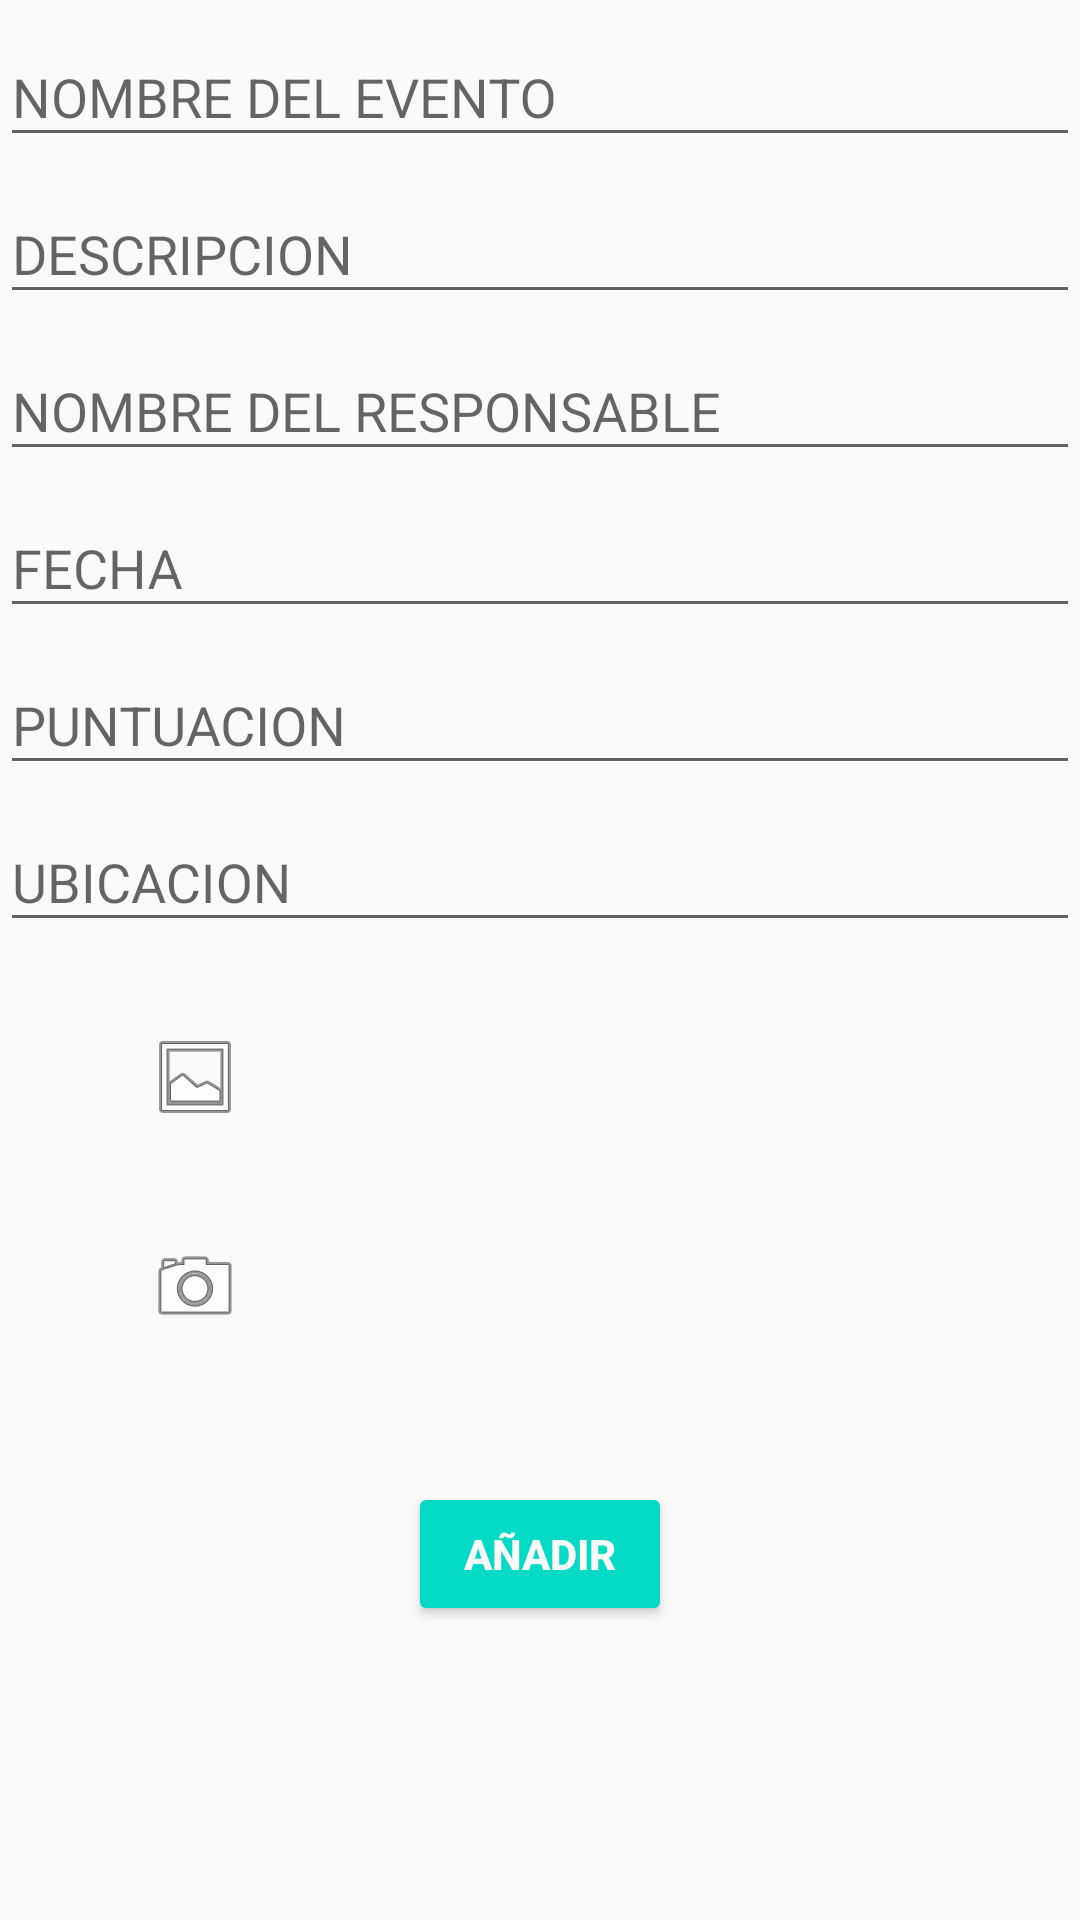

Where to tap for icons on this 1080w x 1920h app screen, as [x,y]:
camera: [195,1285]
gallery: [195,1077]
